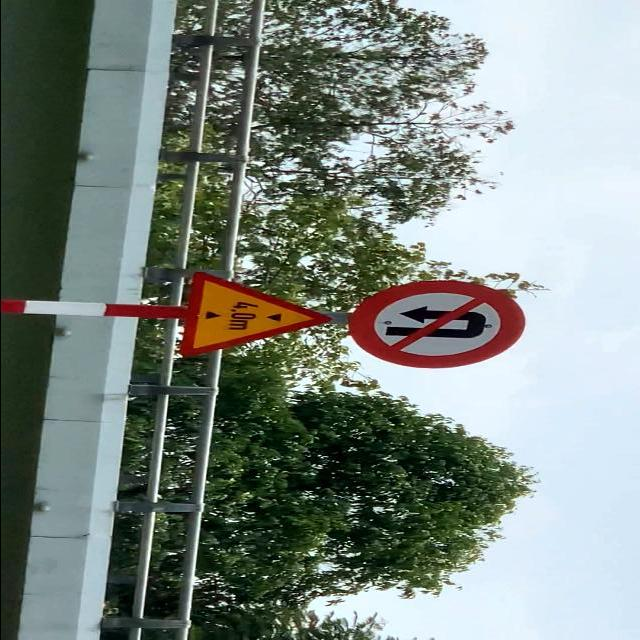P-124a1: (352, 282, 523, 368)
W-239b: (180, 274, 336, 354)
